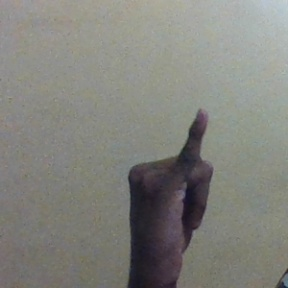I: (127, 104, 213, 245)
